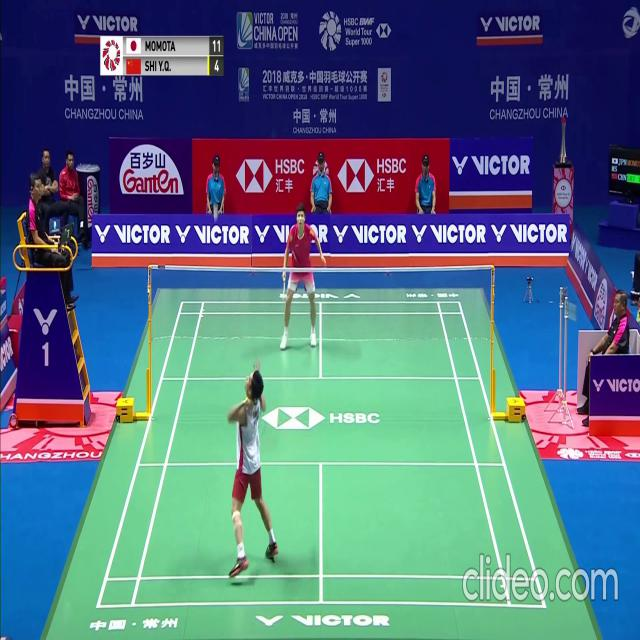Shuttlecock: (213, 211, 218, 219)
